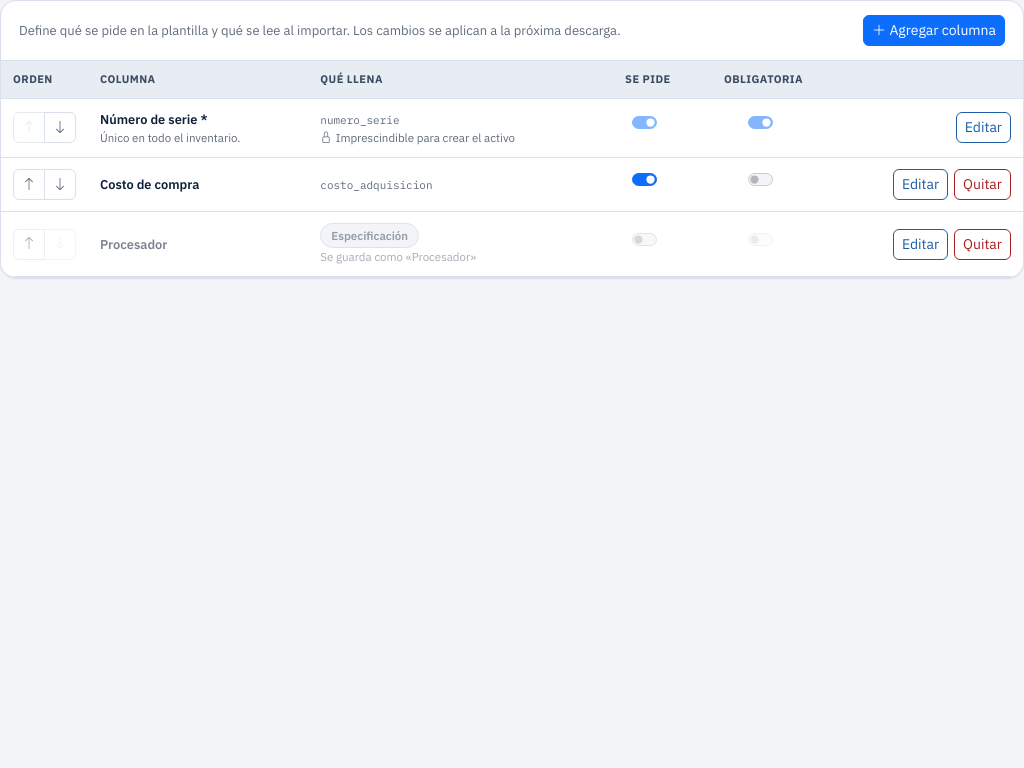
Test: Agregar una columna › elegir un campo propone su encabezado, sin imponerlo
Click the button "Agregar columna" at point(934, 30), box 863,15 -> 1005,46
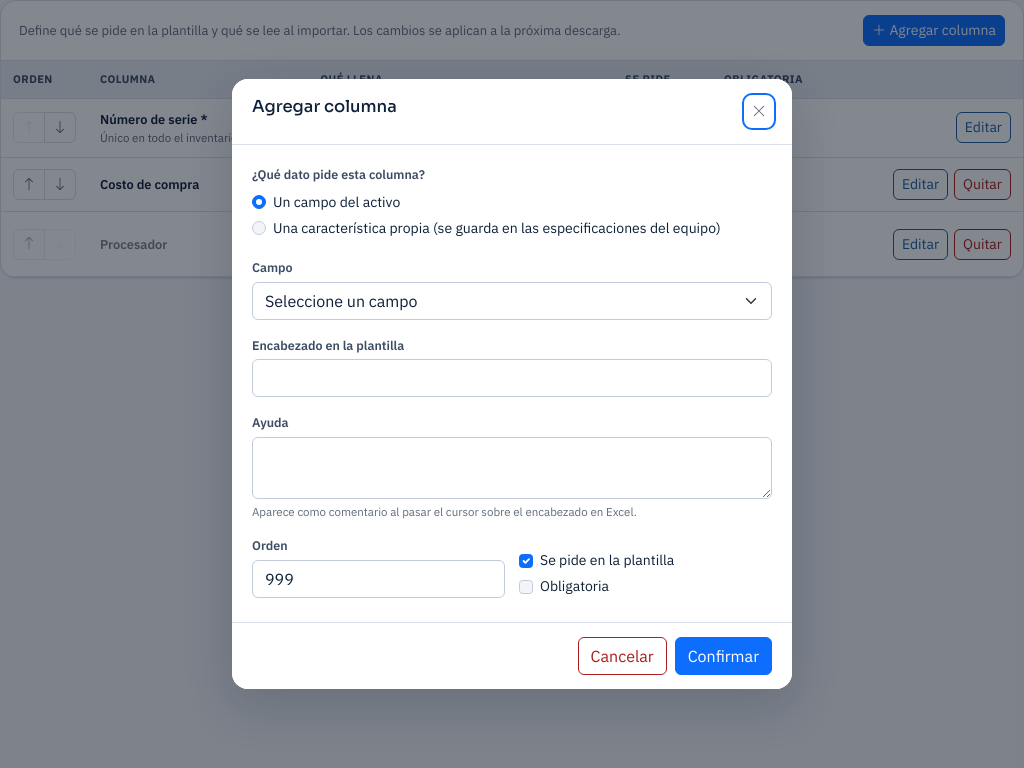
Select "Observaciones" in the dropdown labelled "Campo" at point(512, 300), box 252,282 -> 772,320
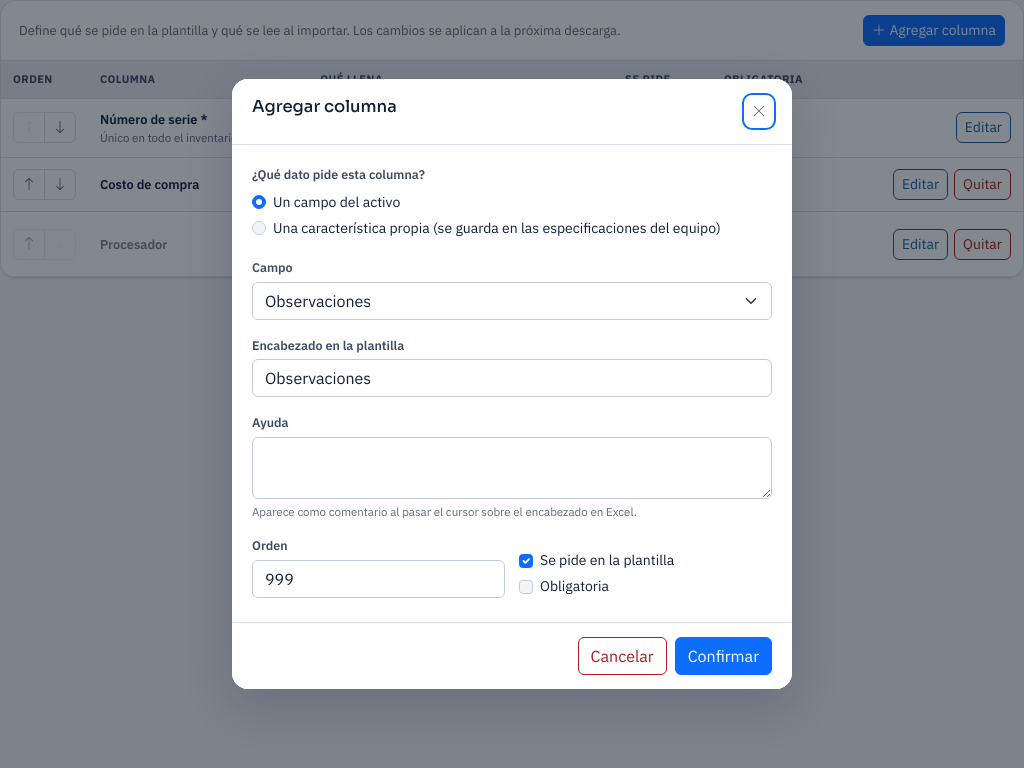
Expected: the field labelled "Encabezado en la plantilla" holds "Observaciones", 252,359 -> 772,397
